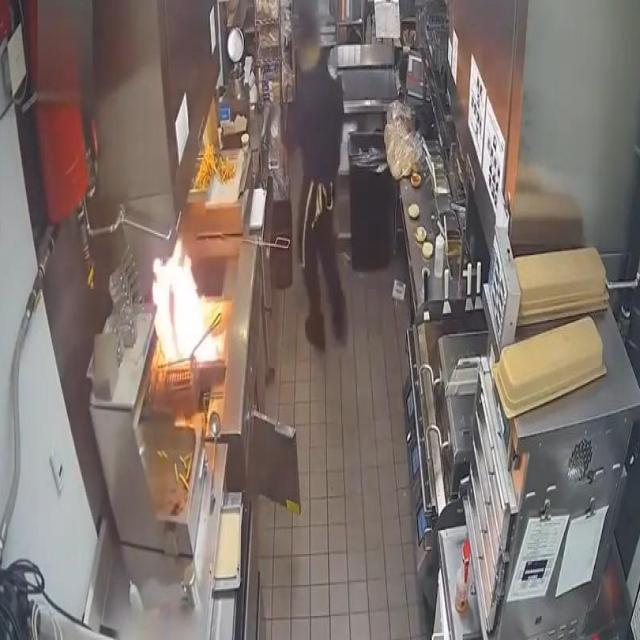smoke: (148, 228, 220, 378)
